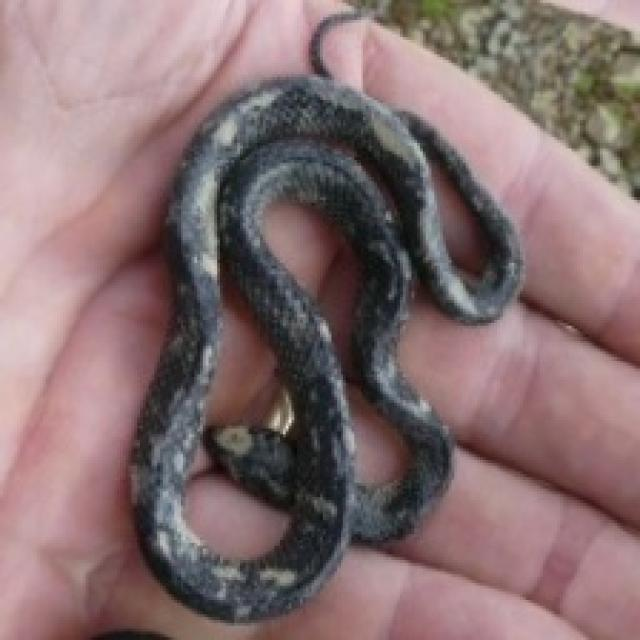gunthers philippine shrub snake: (131, 14, 520, 620), (260, 194, 411, 486), (183, 254, 294, 560)
